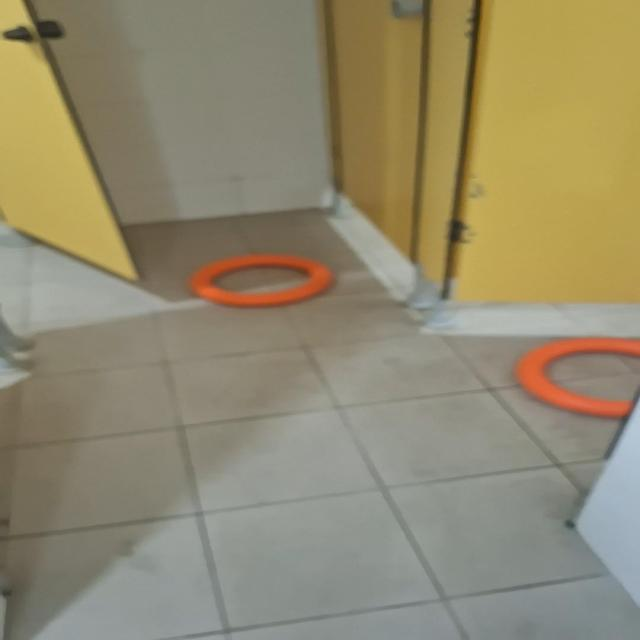note: (515, 336, 638, 418), (189, 252, 334, 308)
